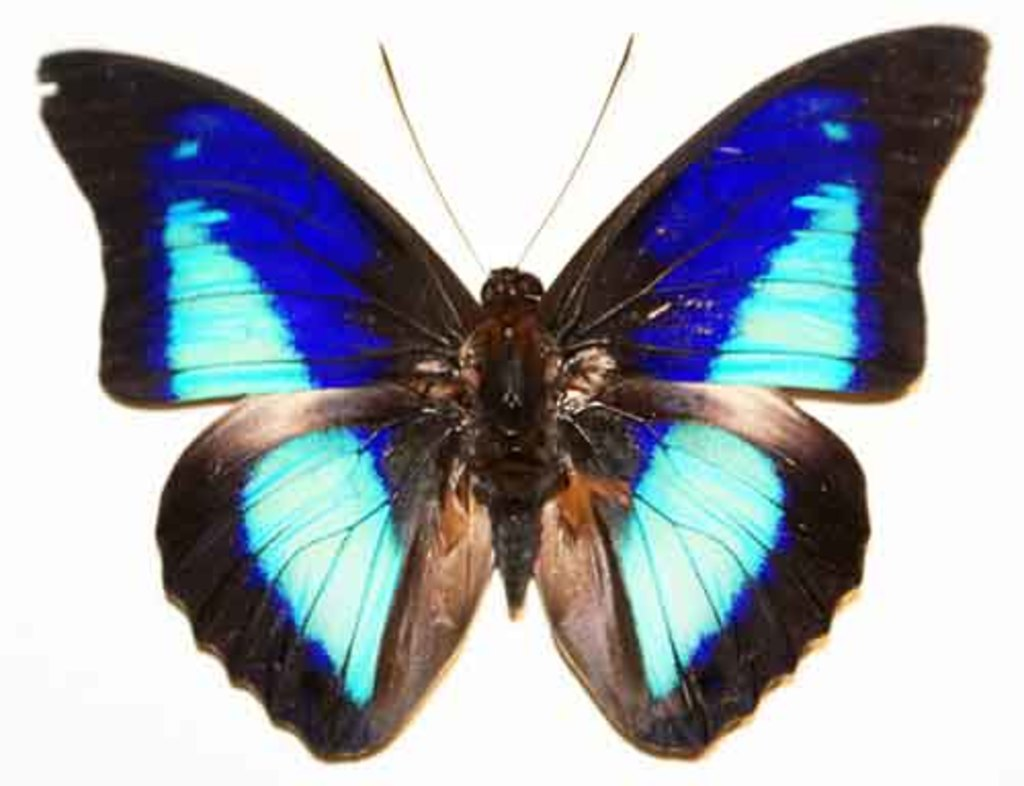Butterfly: (52, 1, 966, 762)
